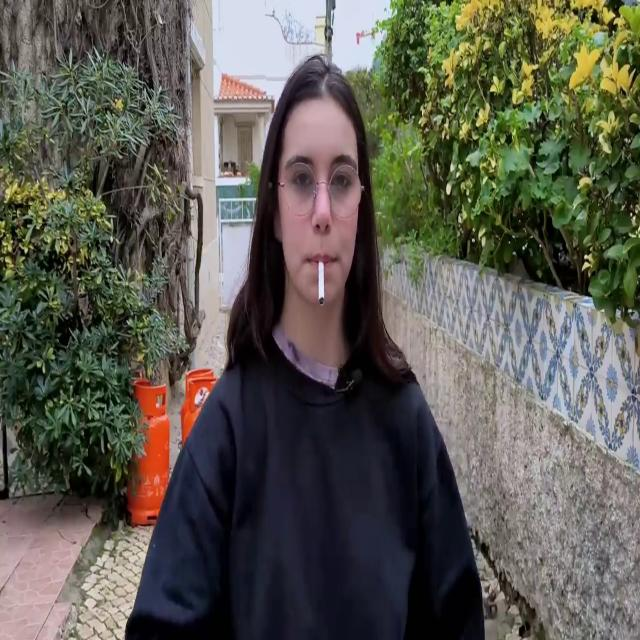Smooking: (306, 247, 335, 318)
